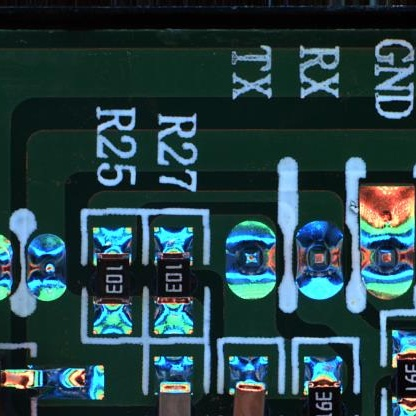spot: (225, 219, 277, 303), (294, 220, 344, 302), (25, 233, 68, 303), (1, 233, 13, 305)
